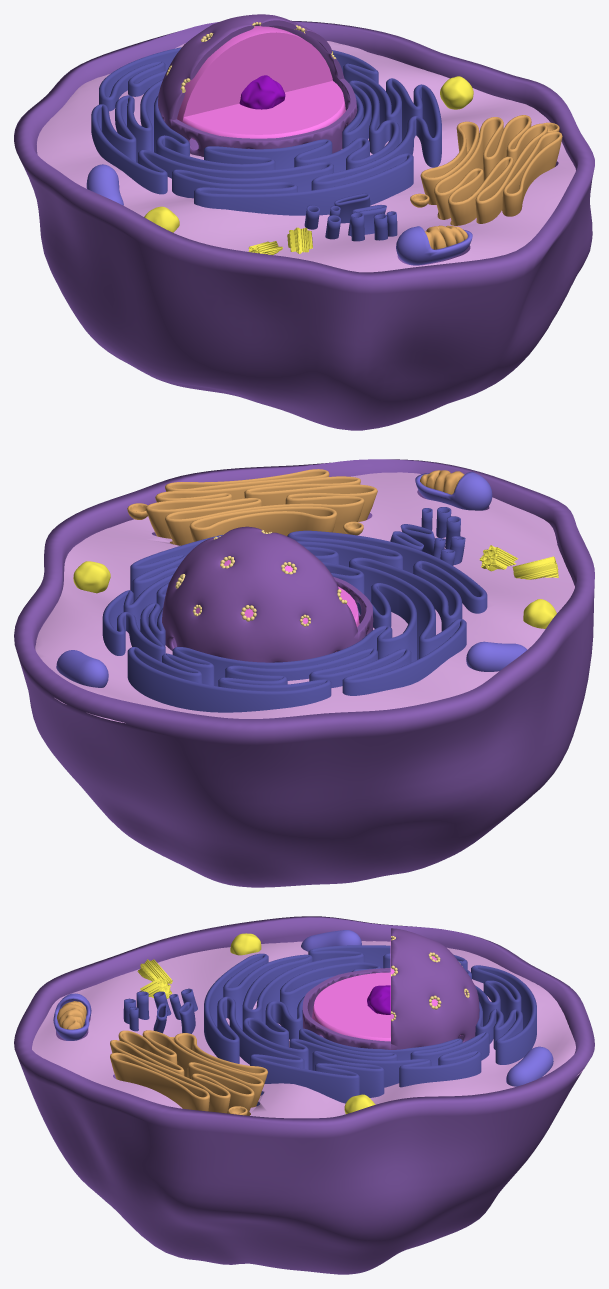
The model's file is full_cell_model.glb.
3 views of the same model, one above another, from view 1: azimuth 30°, elevation 25°; view 2: azimuth 150°, elevation 25°; view 3: azimuth 270°, elevation 25° (orthographic). The views are drawn at different scales.
Parts seen in each view (by area): view 1: Cell_membrane, Rough_ER, Cytsol, Nucleoplasm, Golgi, Icosphere, Mitocondria, Nucelous, Funny_ER_Tube, Centrioles, Lysosome, Mitochondira_insides (+3 smaller); view 2: Cell_membrane, Rough_ER, Cytsol, Icosphere, Golgi, Mitocondria, Centrioles, Lysosome, Funny_ER_Tube, Nuclear_Pores, Lysome, Mitochondira_insides (+2 smaller); view 3: Cell_membrane, Rough_ER, Cytsol, Icosphere, Golgi, Nucleoplasm, Mitocondria, Centrioles, Funny_ER_Tube, Mitochondira_insides, Nucelous, Lysome (+1 smaller).
Boxes of the visible parts, left/top/right/bottom form: Cell_membrane: left=14, top=20, right=594, bottom=430; Rough_ER: left=91, top=47, right=441, bottom=215; Cytsol: left=37, top=41, right=575, bottom=272; Nucleoplasm: left=177, top=26, right=345, bottom=139; Golgi: left=410, top=115, right=562, bottom=225; Icosphere: left=158, top=14, right=357, bottom=156; Mitocondria: left=86, top=164, right=472, bottom=265; Nucelous: left=239, top=75, right=285, bottom=109; Funny_ER_Tube: left=334, top=193, right=386, bottom=235; Centrioles: left=248, top=227, right=312, bottom=254; Lysosome: left=440, top=76, right=473, bottom=109; Mitochondira_insides: left=424, top=225, right=467, bottom=249; Cell_membrane: left=14, top=459, right=594, bottom=887; Rough_ER: left=102, top=530, right=487, bottom=712; Cytsol: left=35, top=472, right=574, bottom=723; Icosphere: left=162, top=526, right=373, bottom=662; Golgi: left=127, top=469, right=377, bottom=545; Mitocondria: left=56, top=471, right=527, bottom=687; Centrioles: left=479, top=545, right=558, bottom=579; Lysosome: left=73, top=561, right=110, bottom=593; Funny_ER_Tube: left=390, top=524, right=434, bottom=555; Nuclear_Pores: left=175, top=530, right=347, bottom=626; Lysome: left=523, top=599, right=556, bottom=628; Mitochondira_insides: left=420, top=470, right=464, bottom=494; Cell_membrane: left=14, top=916, right=594, bottom=1274; Rough_ER: left=204, top=945, right=536, bottom=1106; Cytsol: left=32, top=941, right=583, bottom=1118; Icosphere: left=302, top=928, right=479, bottom=1049; Golgi: left=110, top=1030, right=267, bottom=1115; Nucleoplasm: left=312, top=940, right=466, bottom=1041; Mitocondria: left=53, top=930, right=553, bottom=1086; Centrioles: left=137, top=959, right=172, bottom=998; Funny_ER_Tube: left=153, top=1001, right=195, bottom=1033; Mitochondira_insides: left=57, top=1001, right=86, bottom=1029; Nucelous: left=367, top=985, right=390, bottom=1014; Lysome: left=230, top=933, right=261, bottom=955.
Size of the model in its own units: 5.96 by 3.98 by 7.05.
